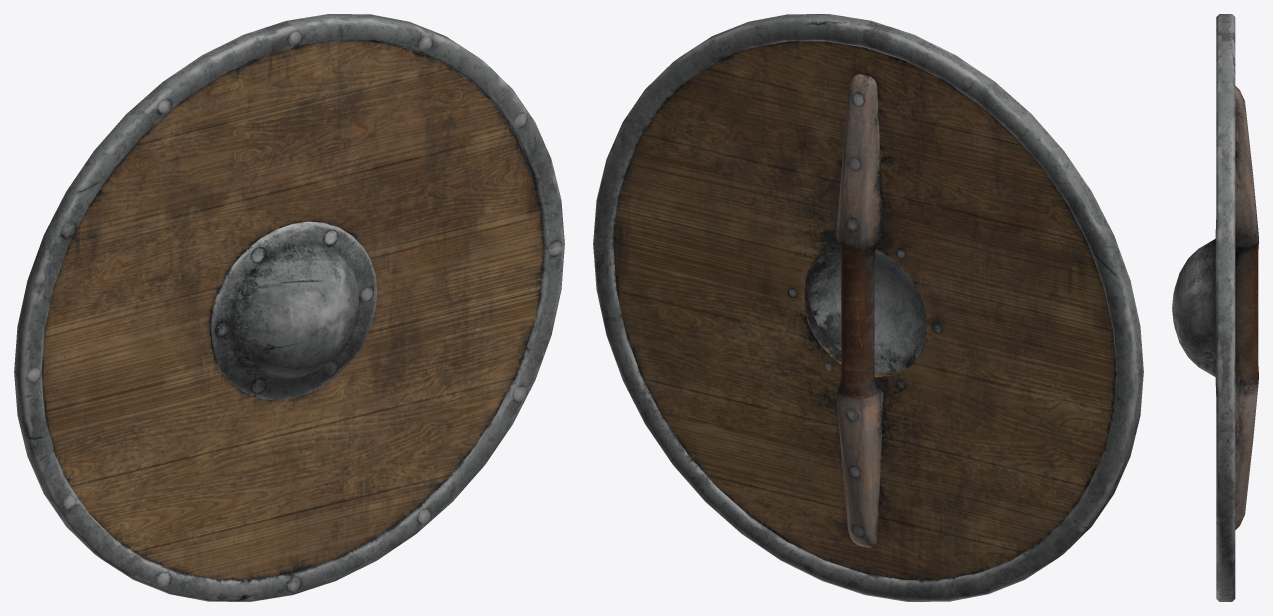
File: whroundshield.glb
3 renders of one model, left to right at view 1: azimuth 30°, elevation 25°; view 2: azimuth 150°, elevation 25°; view 3: azimuth 270°, elevation 25°, orthographic. The views are drawn at different scales.
Parts seen in each view (by area): view 1: SK_viking_shield; view 2: SK_viking_shield; view 3: SK_viking_shield.
Part boxes in pixels (x1,y1,x2,y2): SK_viking_shield: [14, 14, 564, 601]; SK_viking_shield: [593, 14, 1143, 601]; SK_viking_shield: [1172, 14, 1258, 601].
Size of the model in its own units: 100 by 100 by 14.76.
1 material, 1 textured.
